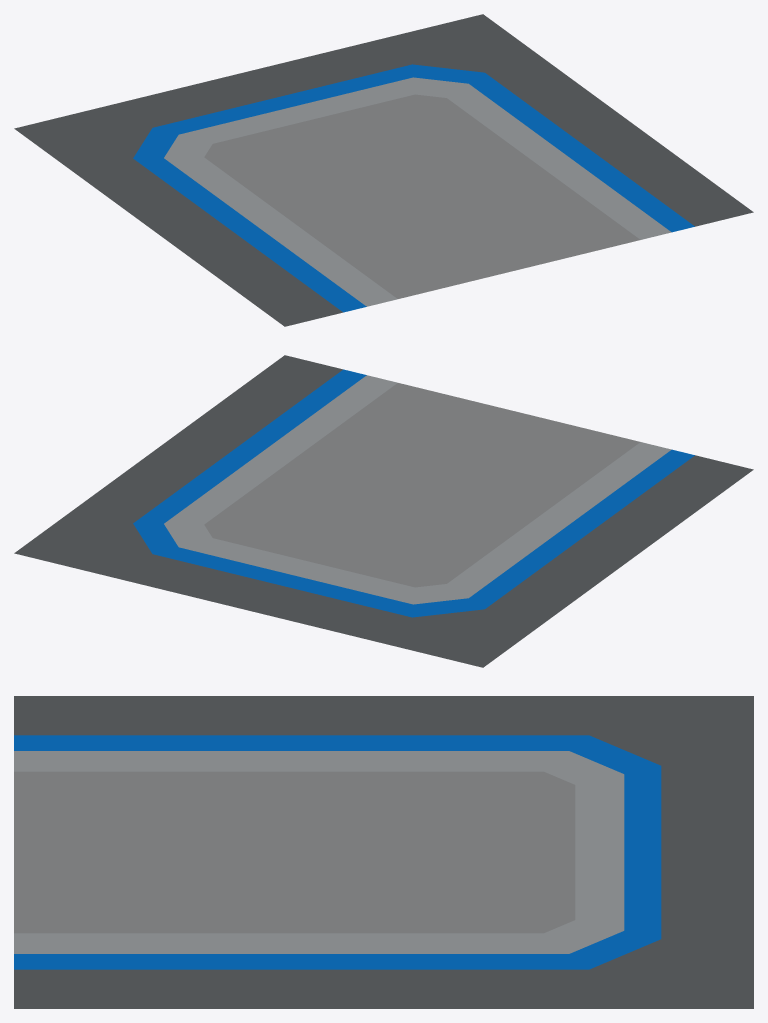
The model's file is Ceiling_type_B_049.fbx.
3 views of the same model, one above another, from view 1: azimuth 30°, elevation 25°; view 2: azimuth 150°, elevation 25°; view 3: azimuth 270°, elevation 25° (orthographic). The views are drawn at different scales.
Visible parts, largest first — view 1: Ceiling_type_B_049; view 2: Ceiling_type_B_049; view 3: Ceiling_type_B_049.
Part boxes in pixels (bbox=[...]): Ceiling_type_B_049: bbox=[14, 14, 753, 326]; Ceiling_type_B_049: bbox=[14, 355, 753, 667]; Ceiling_type_B_049: bbox=[14, 696, 753, 1008].
Size of the model in its own units: 400 by 400 by 3.5.
